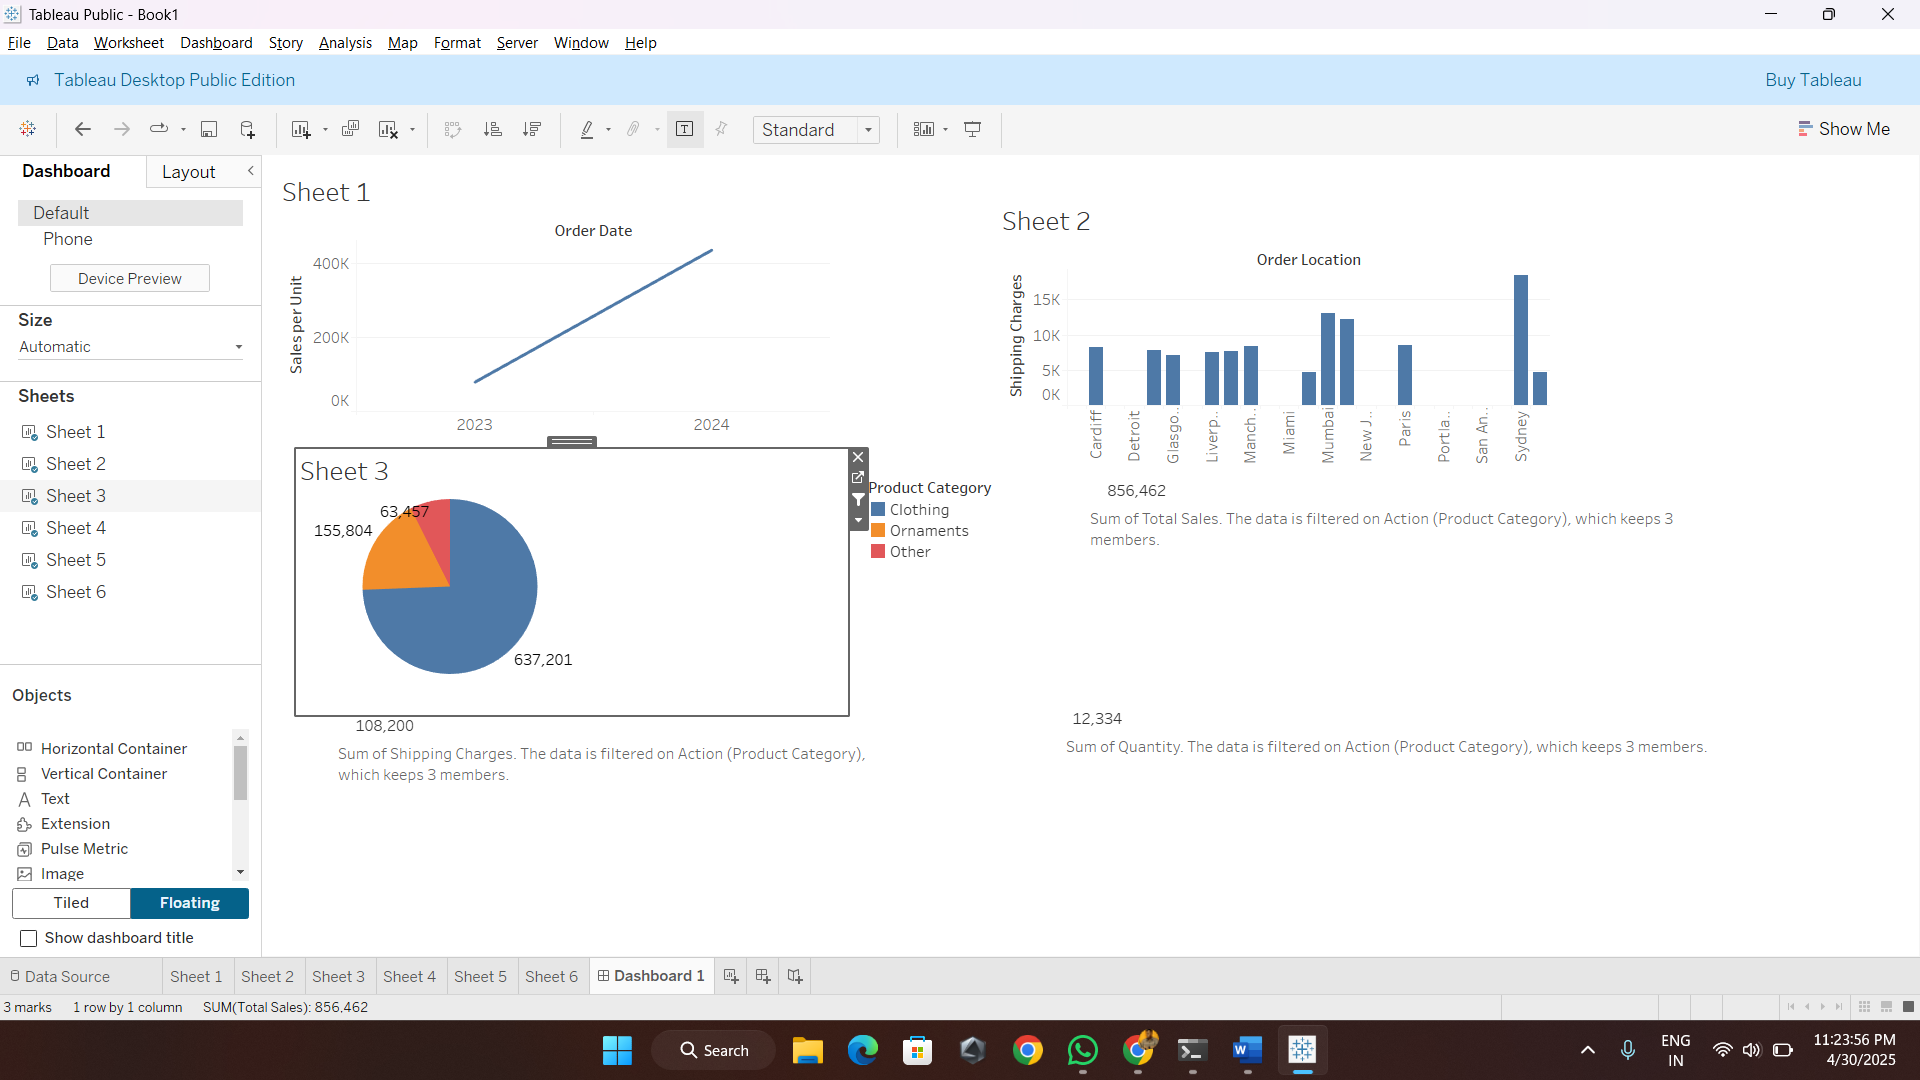

The dashboard page shown, as its layout file describes it:
{"tool":"tableau","page":{"name":"Dashboard 1","canvas":[1000,1000],"units":"permille","ordinal":0},"visuals":[{"type":"worksheet","title":"Sheet 1","mark":"Automatic","rows":["Sales per Unit"],"cols":["Order Date"],"box":[9.8,19,333,332.5]},{"type":"worksheet","title":"Sheet 2","mark":"Automatic","rows":["Shipping Charges"],"cols":["Order Location"],"box":[444.3,54.4,333,332.5]},{"type":"worksheet","title":"Sheet 3","mark":"Pie","box":[20.7,366.6,333,332.5]},{"type":"legend","title":"Sheet 3","param":"[federated.0y52ri00w7sm6818tsr5o18xbzud].[none:Product Category:nk]","box":[365.7,402,152.8,107.5]},{"type":"worksheet","title":"Sheet 4","mark":"Text","box":[499.7,404.5,395.9,277.2]},{"type":"worksheet","title":"Sheet 6","mark":"Automatic","box":[485.2,689.1,415.2,275.9]}]}

Visuals, with their boxes on the dashboard's canvas, which has no fixed pixel size, in thousandths of its width and height (x1, y1, x2, y2). These are canvas units, not pixel positions in the 1920x1080 screenshot, which may show the page scaled, cropped or inside an application window:
"Sheet 1" worksheet: 10, 19, 343, 352
"Sheet 2" worksheet: 444, 54, 777, 387
"Sheet 3" worksheet (Pie marks): 21, 367, 354, 699
"Sheet 3" legend: 366, 402, 518, 510
"Sheet 4" worksheet (Text marks): 500, 404, 896, 682
"Sheet 6" worksheet: 485, 689, 900, 965
